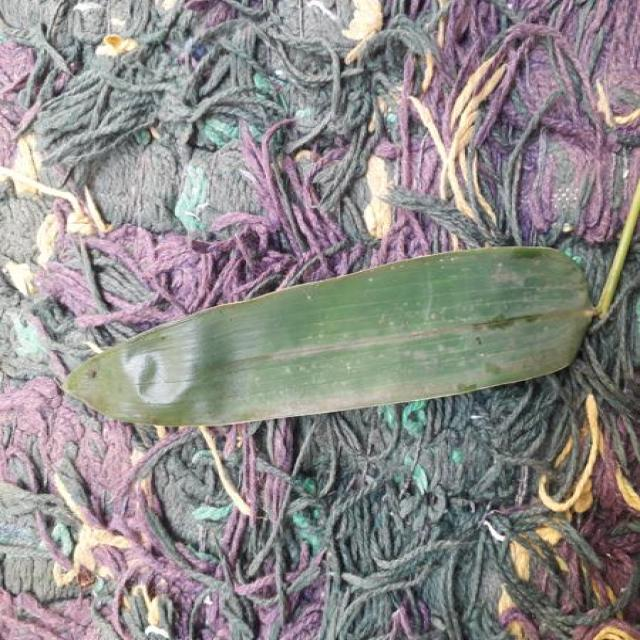defectedBamboo: (67, 309, 592, 424), (188, 246, 589, 326)
